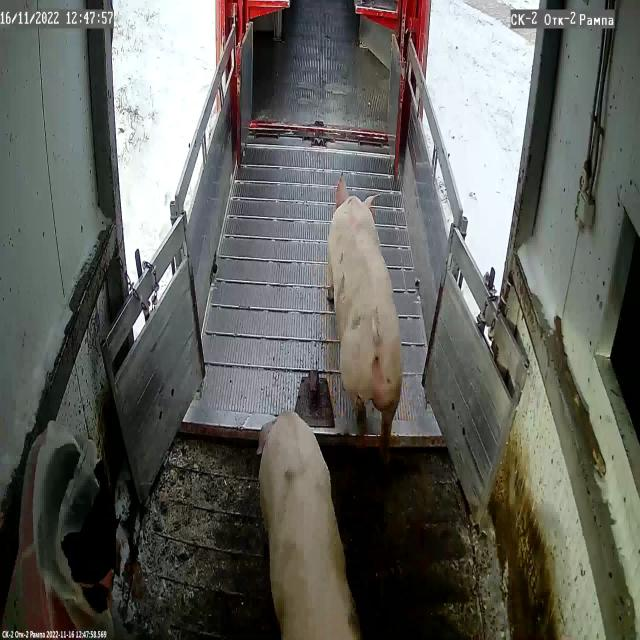pig: (257, 414, 363, 640), (328, 173, 404, 464)
